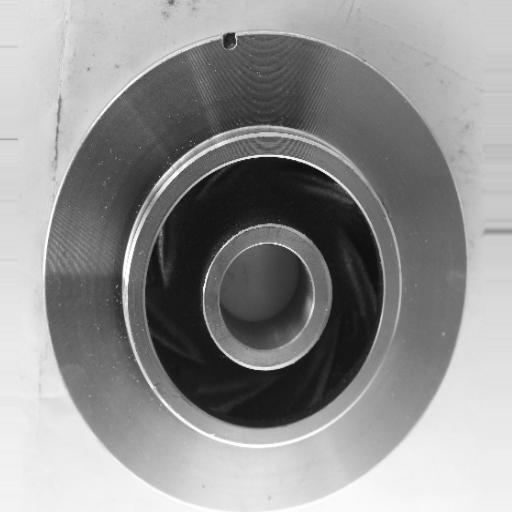pit: (208, 20, 254, 61)
unpolished_casting: (40, 26, 468, 512)
